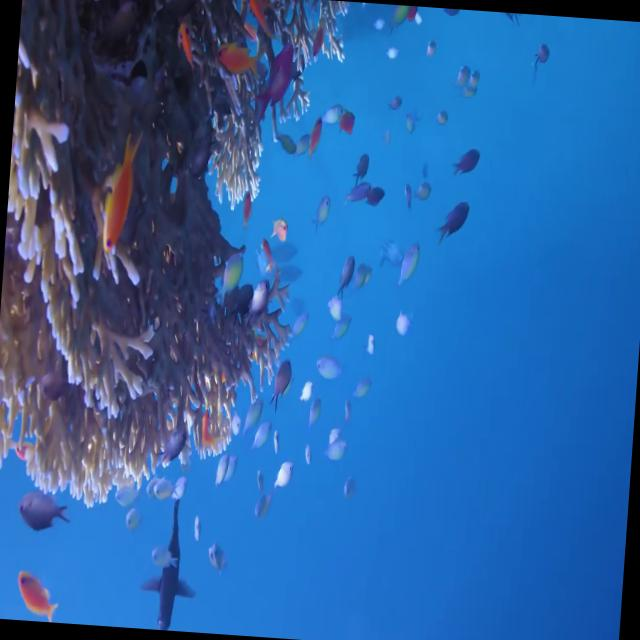fish: (136, 498, 198, 632), (99, 125, 145, 252), (252, 40, 294, 120), (15, 488, 70, 535), (14, 568, 61, 622), (214, 38, 264, 82), (212, 245, 242, 311), (436, 198, 470, 245), (242, 274, 272, 326), (271, 356, 294, 411), (270, 455, 294, 495), (336, 252, 356, 297), (451, 148, 478, 176)
